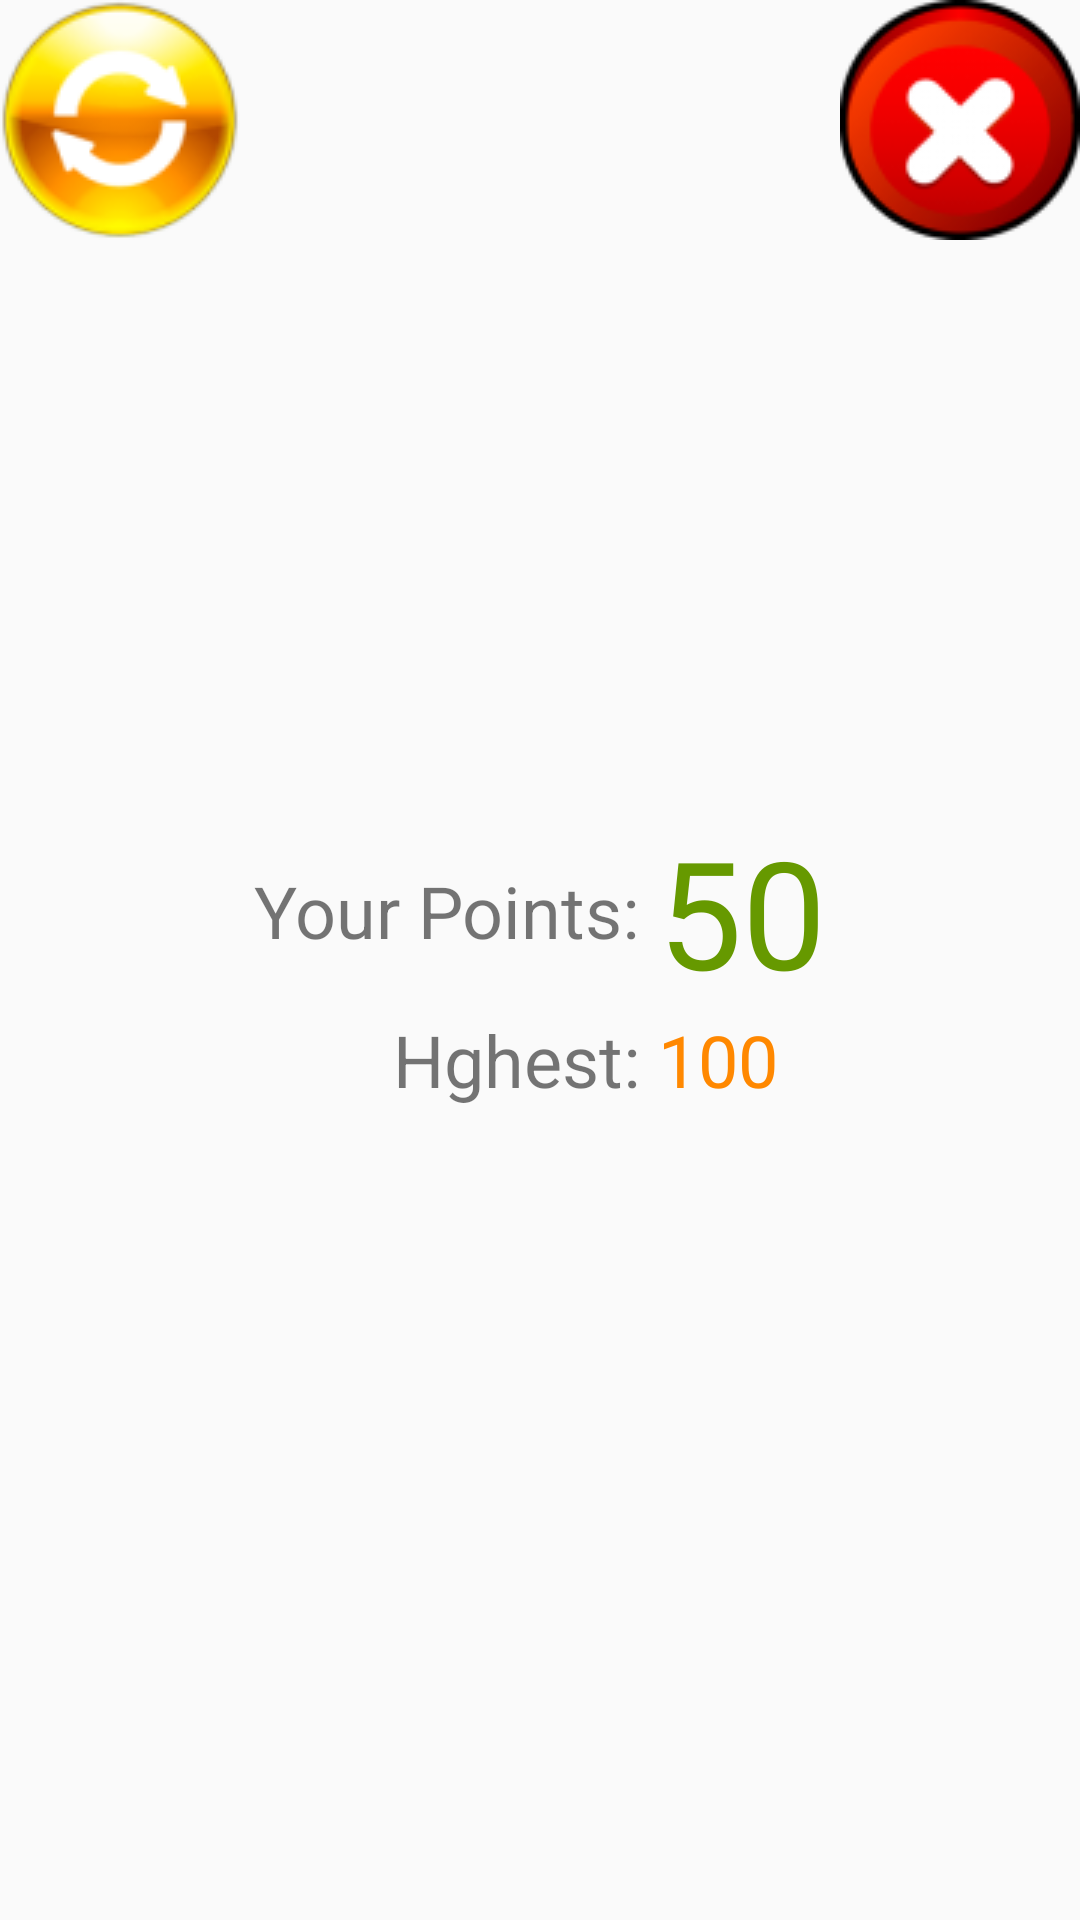

Screen size 1080x1920. Icon name, then its center in pixels as (x=x, y=y):
exit: (x=960, y=120)
restart: (x=120, y=120)
